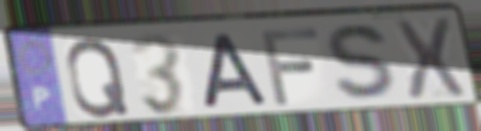3: (129, 30, 189, 118)
A: (201, 31, 273, 112)
F: (257, 25, 322, 108)
Q: (63, 35, 133, 120)
S: (323, 21, 404, 105)
X: (389, 16, 469, 104)
